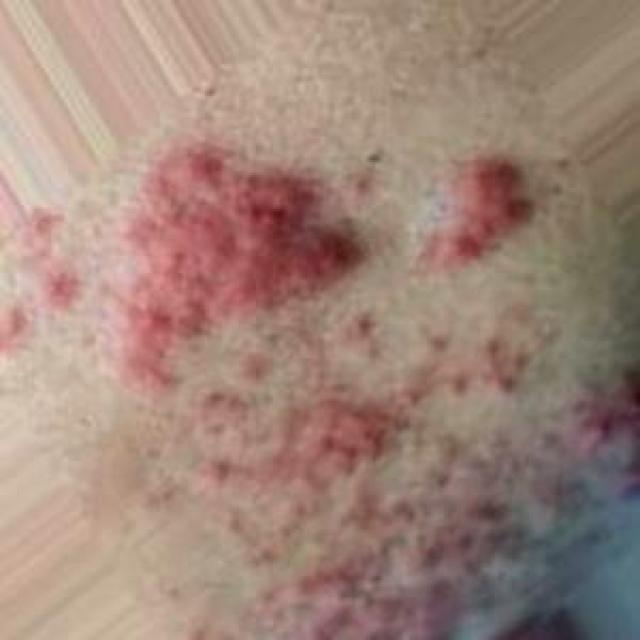Shingles: (19, 138, 640, 640)
